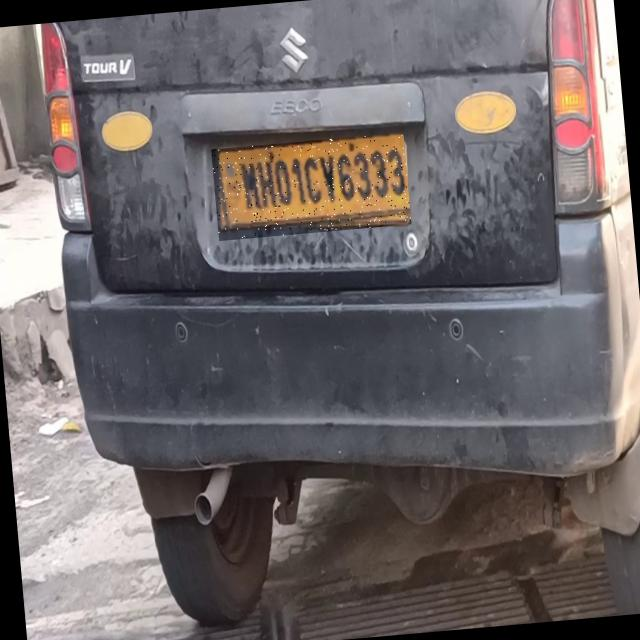Plate: (212, 134, 412, 242)
